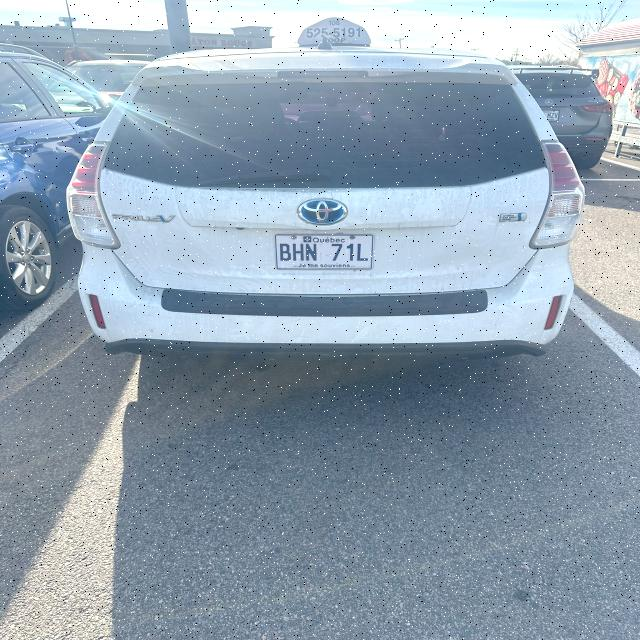plaque: (275, 235, 373, 269), (544, 110, 559, 121)
